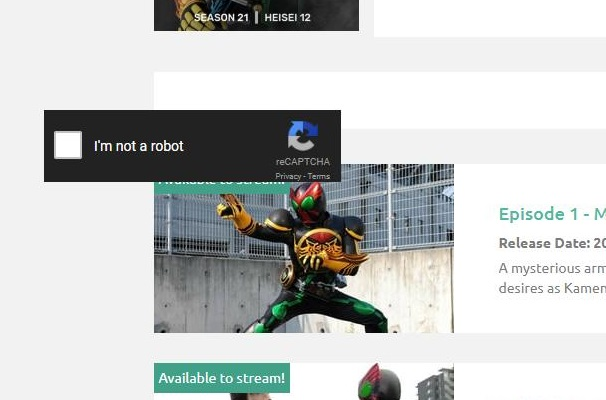captcha: (53, 130, 185, 160)
